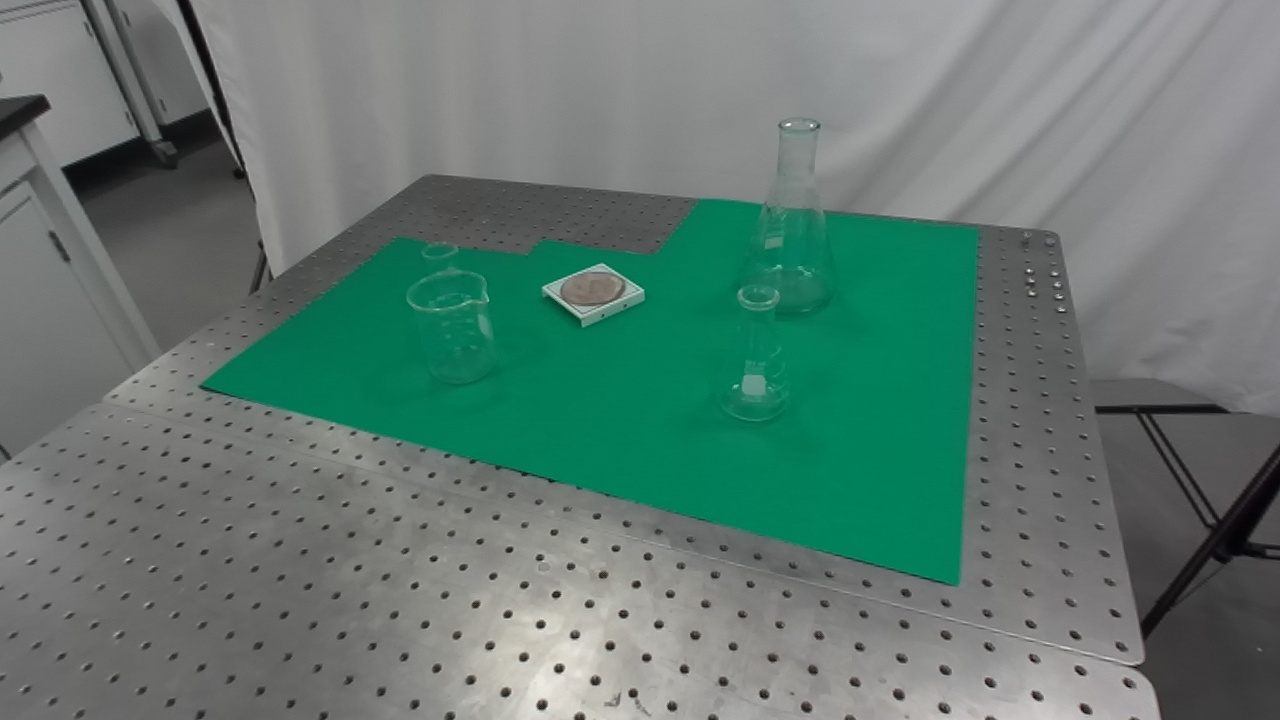glass: (739, 113, 842, 319), (403, 266, 502, 388), (714, 281, 793, 427), (420, 239, 463, 293)
plate: (538, 262, 648, 328)
